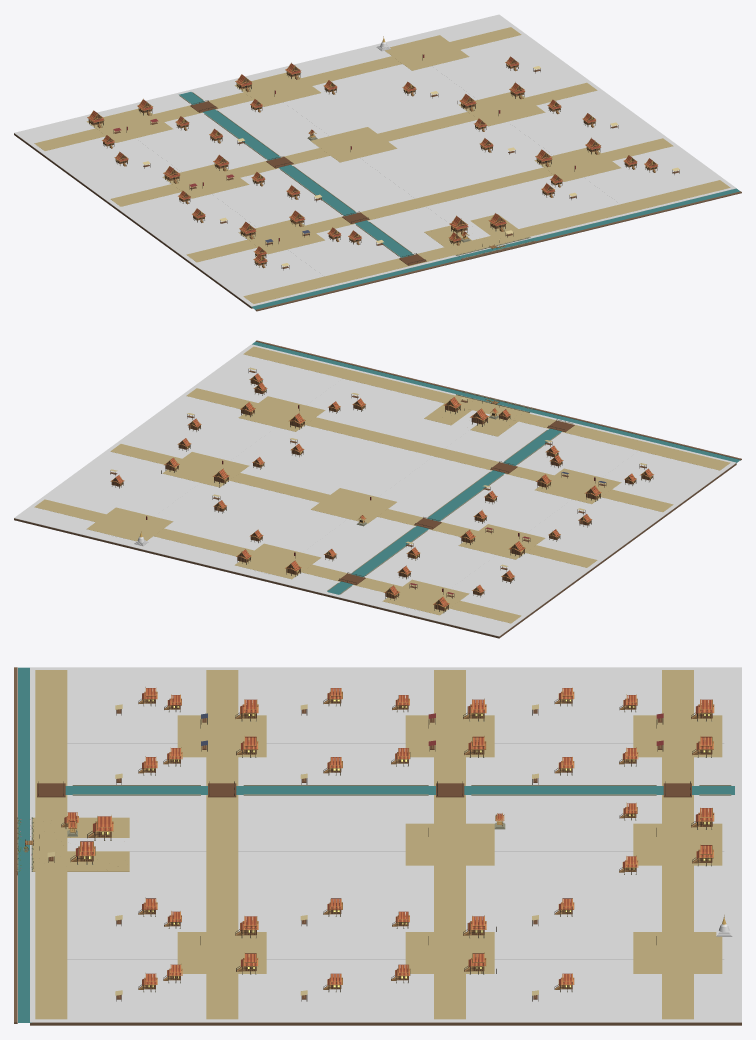
The model's file is bangsai.glb.
3 views of the same model, one above another, from view 1: azimuth 30°, elevation 25°; view 2: azimuth 150°, elevation 25°; view 3: azimuth 270°, elevation 25° (orthographic). The views are drawn at different scales.
Visible parts, largest first — view 1: Expanded ground · meadow, Regional avenues · sand, Regional avenues · paving, City canal · water, River extension · water, District square 4 · sand, District square 6 · sand, District square 3 · sand, District square 7 · sand, District square 1 · sand, District square 2 · sand, District square 0 · sand (+6 smaller); view 2: Expanded ground · meadow, Regional avenues · sand, Regional avenues · paving, City canal · water, Expanded ground · earth, River extension · water, District square 4 · sand, District square 6 · sand, District square 1 · sand, District square 7 · sand, District square 3 · sand, District square 5 · sand (+6 smaller); view 3: Expanded ground · meadow, Regional avenues · sand, Regional avenues · paving, City canal · water, District square 4 · sand, District square 6 · sand, River extension · water, District square 7 · sand, District square 3 · sand, District square 1 · sand, District square 5 · sand, District square 0 · sand (+7 smaller).
Boxes of the visible parts, x1=… form: Expanded ground · meadow: x1=14, y1=14, x2=736, y2=306; Regional avenues · sand: x1=34, y1=27, x2=730, y2=303; Regional avenues · paving: x1=105, y1=39, x2=638, y2=276; City canal · water: x1=179, y1=92, x2=413, y2=257; River extension · water: x1=251, y1=188, x2=739, y2=309; District square 4 · sand: x1=310, y1=127, x2=397, y2=162; District square 6 · sand: x1=385, y1=35, x2=469, y2=70; District square 3 · sand: x1=458, y1=92, x2=545, y2=126; District square 7 · sand: x1=234, y1=72, x2=320, y2=106; District square 1 · sand: x1=534, y1=147, x2=620, y2=181; District square 2 · sand: x1=162, y1=164, x2=249, y2=198; District square 0 · sand: x1=238, y1=220, x2=324, y2=254; Expanded ground · meadow: x1=14, y1=344, x2=736, y2=636; Regional avenues · sand: x1=34, y1=346, x2=730, y2=623; Regional avenues · paving: x1=105, y1=374, x2=638, y2=610; City canal · water: x1=327, y1=428, x2=561, y2=594; Expanded ground · earth: x1=14, y1=463, x2=736, y2=638; River extension · water: x1=252, y1=341, x2=740, y2=463; District square 4 · sand: x1=311, y1=488, x2=396, y2=523; District square 6 · sand: x1=86, y1=507, x2=173, y2=541; District square 1 · sand: x1=238, y1=396, x2=325, y2=431; District square 7 · sand: x1=234, y1=543, x2=321, y2=579; District square 3 · sand: x1=162, y1=452, x2=249, y2=487; District square 5 · sand: x1=382, y1=579, x2=469, y2=615; Expanded ground · meadow: x1=30, y1=667, x2=741, y2=1022; Regional avenues · sand: x1=35, y1=670, x2=693, y2=1019; Regional avenues · paving: x1=67, y1=729, x2=724, y2=959; City canal · water: x1=65, y1=786, x2=734, y2=794; District square 4 · sand: x1=405, y1=823, x2=494, y2=865; District square 6 · sand: x1=633, y1=932, x2=722, y2=973; River extension · water: x1=18, y1=667, x2=31, y2=1022; District square 7 · sand: x1=633, y1=823, x2=722, y2=865; District square 3 · sand: x1=405, y1=932, x2=494, y2=973; District square 1 · sand: x1=177, y1=932, x2=266, y2=973; District square 5 · sand: x1=633, y1=715, x2=722, y2=757; District square 0 · sand: x1=177, y1=715, x2=266, y2=757.
Bounding box in the file's own units: 236 × 8.04 × 204.
